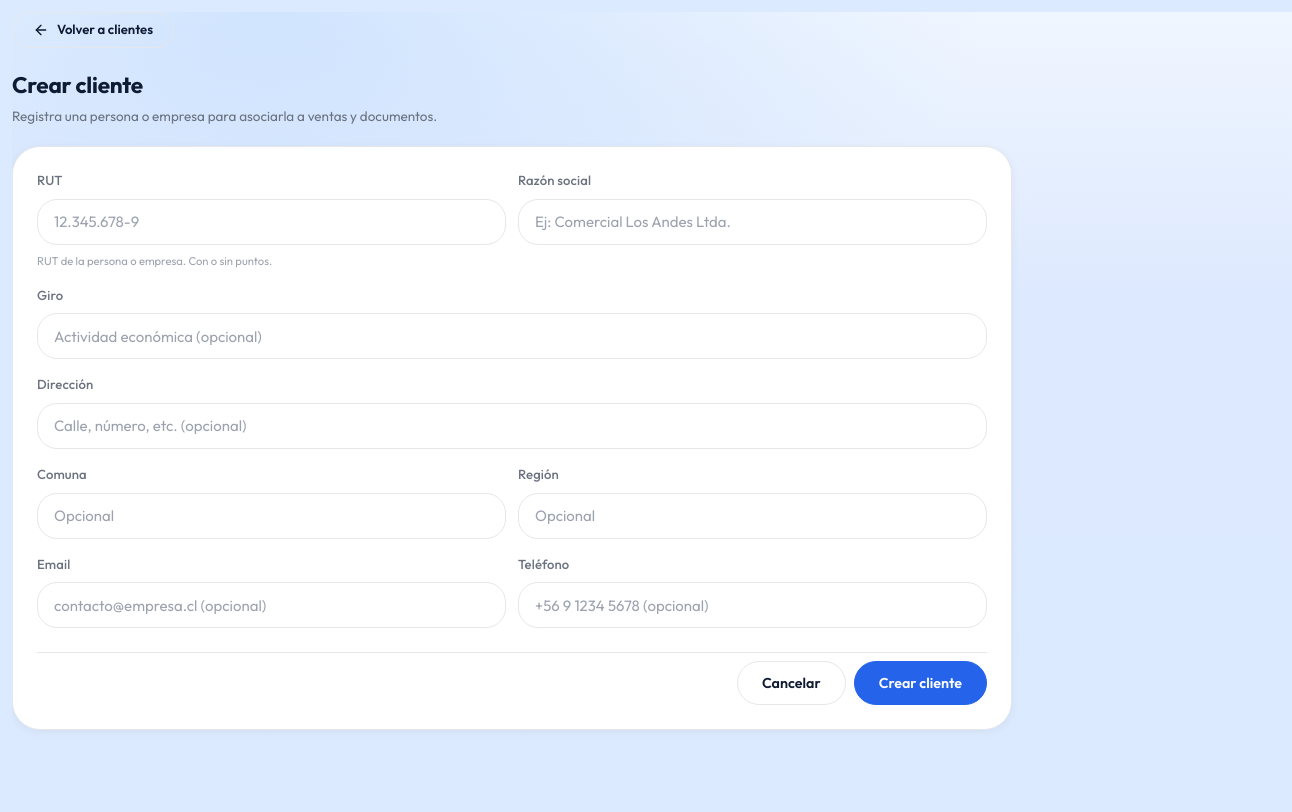
Test: EditarClientePage (crear) › muestra error con email inválido
In the field labelled "RUT": (272, 222) [38,200,505,244], type "12345678-5"
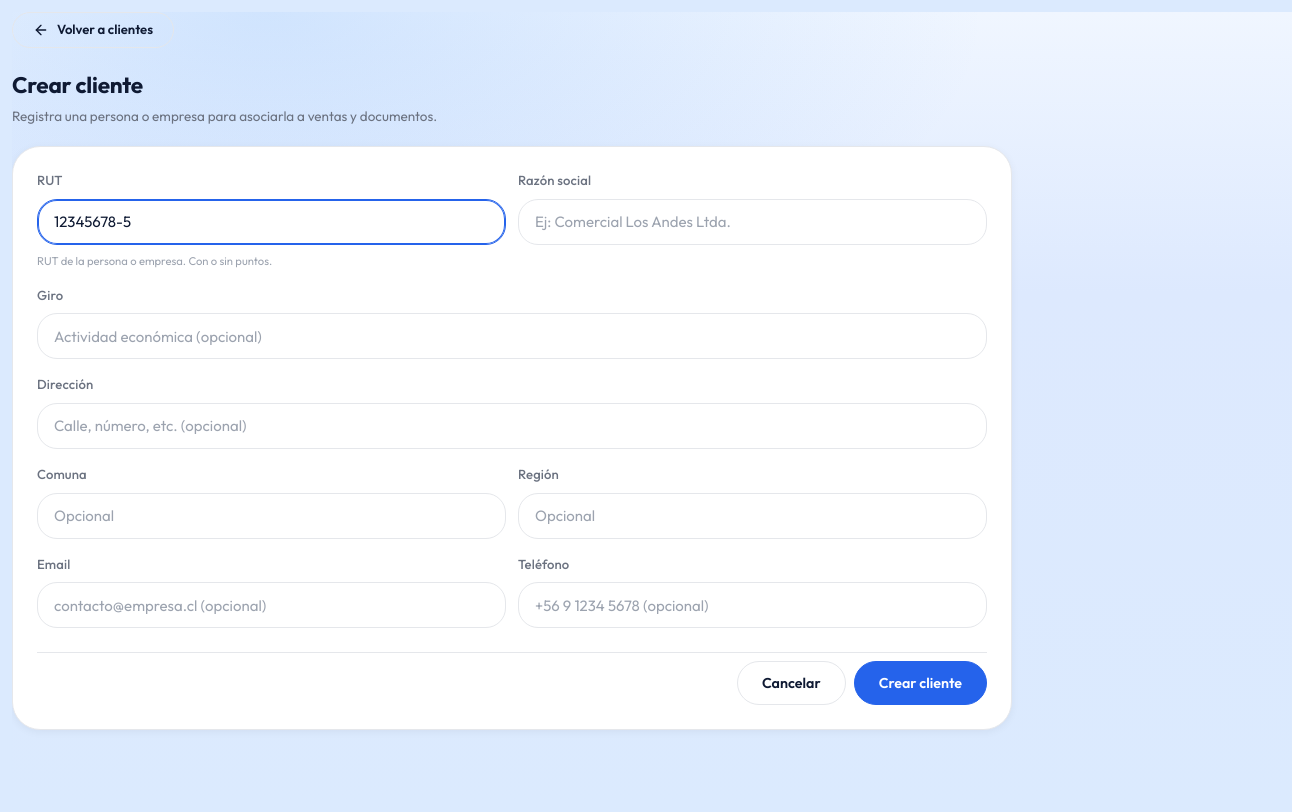
In the field labelled "Razón social": (752, 222) [519,200,986,244], type "Acme SpA"
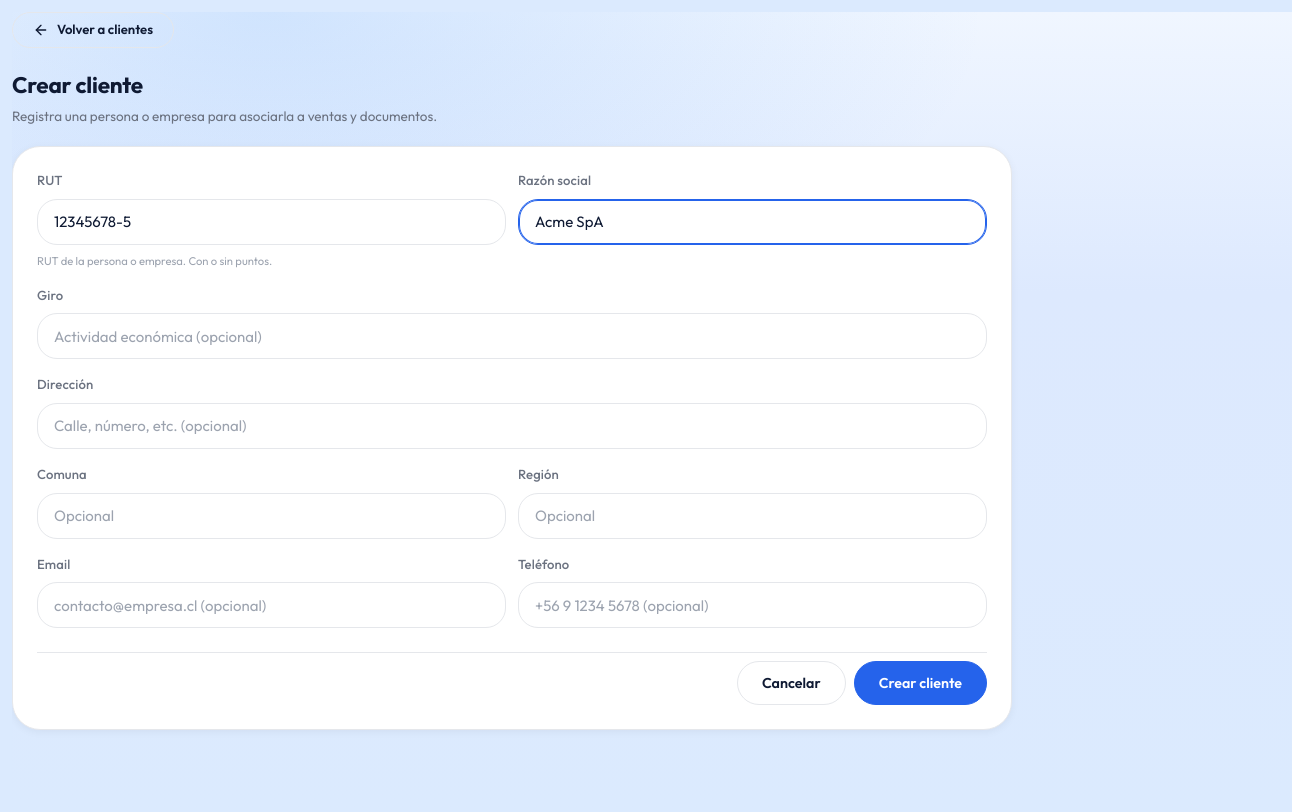
In the field labelled "Email": (272, 605) [38,583,505,627], type "no-es-un-email"
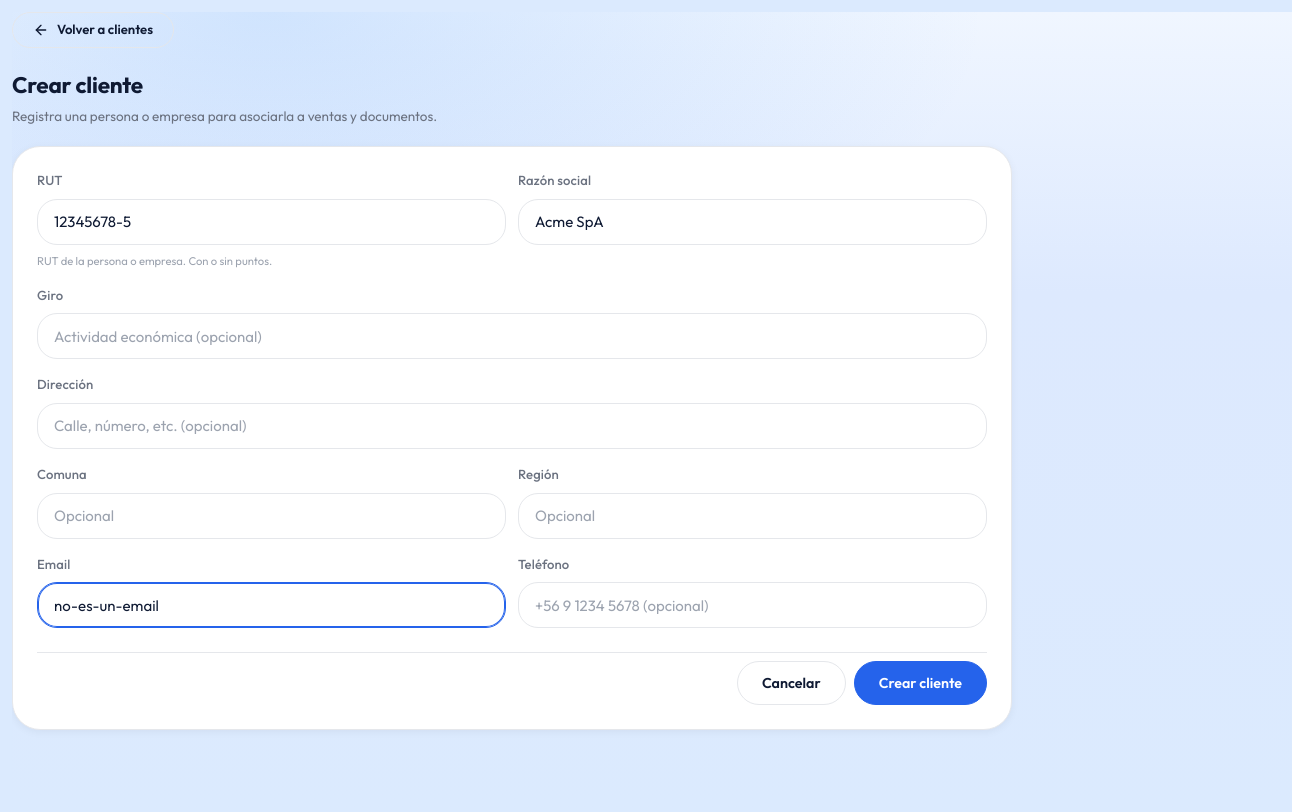
Click the button "Crear cliente": (920, 683) [854,661,987,705]
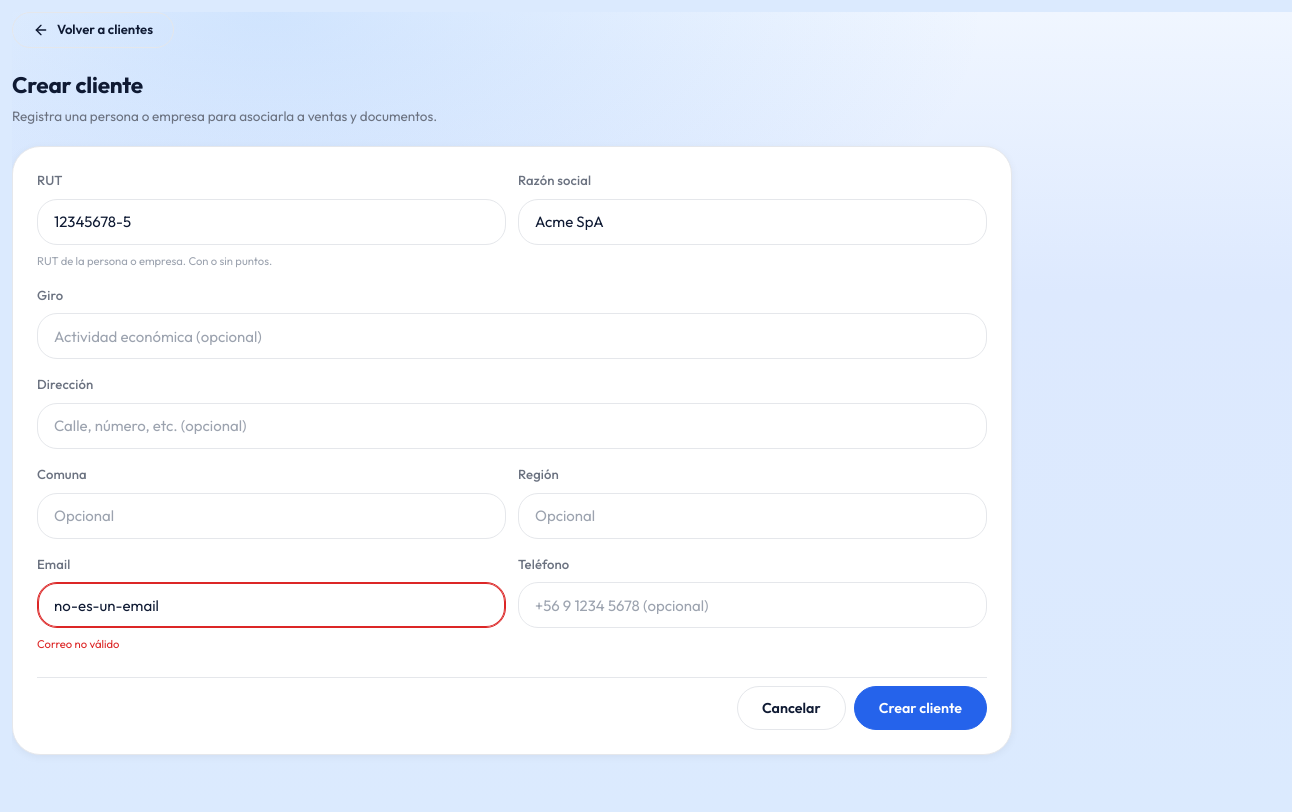
Result: the text "Correo no válido" is shown at [37,637,120,651]
